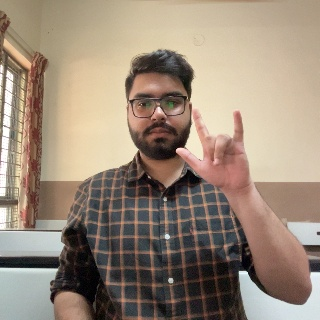I Love You: (176, 110, 256, 204)
